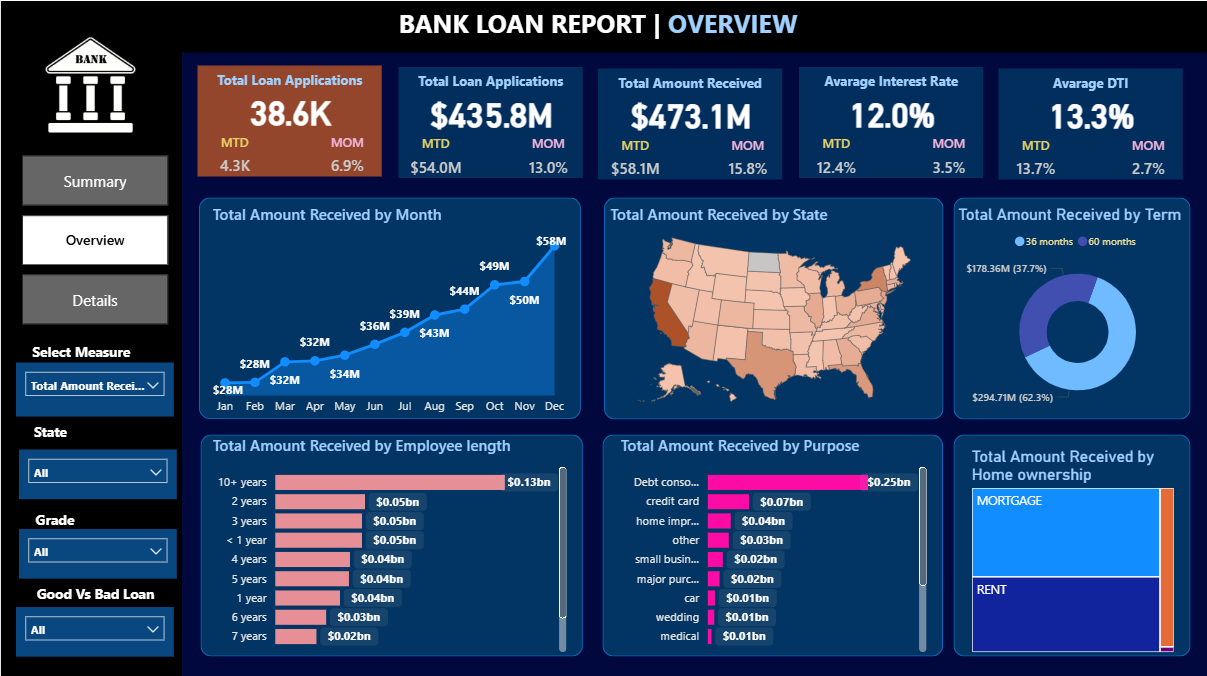

The dashboard page shown, as its layout file describes it:
{"tool":"powerbi","page":{"name":"Overview","canvas":[1280,720],"ordinal":1},"visuals":[{"type":"shape","box":[208.4,68.4,195.6,117.7],"z":0,"group":"g1"},{"type":"shape","box":[421.5,70.3,195.6,117.7],"z":0,"group":"g2"},{"type":"shape","box":[846,70.3,195.6,117.7],"z":0,"group":"g4"},{"type":"shape","box":[633.7,71.7,195.6,117.7],"z":0,"group":"g3"},{"type":"shape","box":[1058.3,72.1,195.6,117.7],"z":0,"group":"g5"},{"type":"shape","box":[210,208.4,405,235],"z":0},{"type":"shape","box":[0,0,1279.4,54.8],"z":1000},{"type":"card","fields":{"Values":["Bank loan data.Total Loan Applications"]},"box":[207.9,56.7,196.5,117.2],"z":1000,"group":"g1"},{"type":"card","fields":{"Values":["Bank loan data.Total Funded Amount"]},"box":[421,58.6,196.5,117.2],"z":1000,"group":"g2"},{"type":"card","fields":{"Values":["Bank loan data.Avg Interest Rate"]},"box":[845.5,58.6,196.5,117.2],"z":1000,"group":"g4"},{"type":"card","fields":{"Values":["Bank loan data.Total Amount Received"]},"box":[633.2,60,196.5,117.2],"z":1000,"group":"g3"},{"type":"card","fields":{"Values":["Bank loan data.Avg DTI"]},"box":[1057.8,60.4,196.5,117.2],"z":1000,"group":"g5"},{"type":"shape","box":[0,54.8,192,665.2],"z":2000},{"type":"textbox","box":[208.4,68.4,195.6,36.6],"z":2000,"group":"g1"},{"type":"textbox","box":[421.5,70.3,195.6,36.6],"z":2000,"group":"g2"},{"type":"textbox","box":[846,70.3,195.6,36.6],"z":2000,"group":"g4"},{"type":"textbox","box":[633.7,71.7,195.6,36.6],"z":2000,"group":"g3"},{"type":"textbox","box":[1058.3,72.1,195.6,36.6],"z":2000,"group":"g5"},{"type":"textbox","box":[416.7,0,447,55.7],"z":3000},{"type":"card","title":"MTD","fields":{"Values":["Bank loan data.MTD Loan Applications"]},"box":[209.8,139.9,75.6,54.8],"z":3000,"group":"g1"},{"type":"card","title":"MTD","fields":{"Values":["Bank loan data.MTD Funded Amount"]},"box":[422.9,141.8,75.6,54.8],"z":3000,"group":"g2"},{"type":"card","title":"MTD","fields":{"Values":["Bank loan data.MTD Avg Interest RAte"]},"box":[847.4,141.8,75.6,54.8],"z":3000,"group":"g4"},{"type":"card","title":"MTD","fields":{"Values":["Bank loan data.MTD Total Amount Received"]},"box":[635.1,143.2,75.6,54.8],"z":3000,"group":"g3"},{"type":"card","title":"MTD","fields":{"Values":["Bank loan data.MTD Avg DTI"]},"box":[1059.7,143.6,75.6,54.8],"z":3000,"group":"g5"},{"type":"group","id":"g1","title":"Group 1","box":[207.9,56.7,196.5,138],"z":4000},{"type":"card","title":"MOM","fields":{"Values":["Bank loan data.MOM Loan Applications"]},"box":[328.8,139.9,75.6,54.8],"z":4000,"group":"g1"},{"type":"card","title":"MOM","fields":{"Values":["Bank loan data.MOM Total Funded Amount"]},"box":[541.9,141.8,75.6,54.8],"z":4000,"group":"g2"},{"type":"card","title":"MOM","fields":{"Values":["Bank loan data.MOM Avg INterest Rate"]},"box":[966.4,141.8,75.6,54.8],"z":4000,"group":"g4"},{"type":"card","title":"MOM","fields":{"Values":["Bank loan data.MOM Total Amount Received"]},"box":[754.1,143.2,75.6,54.8],"z":4000,"group":"g3"},{"type":"card","title":"MOM","fields":{"Values":["Bank loan data.MOM Avg DTI"]},"box":[1178.7,143.6,75.6,54.8],"z":4000,"group":"g5"},{"type":"group","id":"g2","title":"Group 1","box":[421,58.6,195.7,137.1],"z":5000},{"type":"group","id":"g3","title":"Group 1","box":[633.2,60,195.7,137.1],"z":6000},{"type":"group","id":"g4","title":"Group 1","box":[845.5,58.6,195.7,137.1],"z":7000},{"type":"group","id":"g5","title":"Group 1","box":[1057.8,60.4,195.6,136.8],"z":8000},{"type":"slicer","fields":{"Values":["Bank loan data.address_state"]},"box":[19.6,475.1,167,52.5],"z":9000},{"type":"textbox","box":[5.3,440.1,95.4,44.5],"z":10000},{"type":"slicer","fields":{"Values":["Bank loan data.grade"]},"box":[19.6,560.7,167,52.5],"z":11000},{"type":"textbox","box":[14.8,534.1,85.9,38.2],"z":12000},{"type":"slicer","fields":{"Values":["Bank loan data.Good vs Bad Loan"]},"box":[15.9,642.6,167,52.5],"z":13000},{"type":"textbox","box":[19.1,612.4,162.2,39.8],"z":14000},{"type":"areaChart","fields":{"Y":["Bank loan data.Total Amount Received"],"Category":["Date Table.Month"]},"box":[219.5,214.7,384.9,232.2],"z":15000},{"type":"slicer","fields":{"Values":["Select Measure.Select Measure"]},"box":[15.9,382.9,167,57.3],"z":16000},{"type":"textbox","box":[19.1,355.9,132,36.6],"z":17000},{"type":"shape","box":[639.4,208.4,360,235.4],"z":18000},{"type":"shapeMap","fields":{"Value":["Bank loan data.Total Amount Received"],"Category":["Bank loan data.address_state"]},"box":[641,214.7,357.9,224.3],"z":19000},{"type":"shape","box":[1010,208.4,251.3,235.4],"z":20000},{"type":"donutChart","fields":{"Y":["Bank loan data.Total Amount Received"],"Category":["Bank loan data.term"]},"box":[1010,216.3,262.5,222.7],"z":21000},{"type":"shape","box":[211.6,459.7,405.6,235.4],"z":22000},{"type":"barChart","fields":{"Y":["Bank loan data.Total Amount Received"],"Category":["Bank loan data.emp_length"]},"box":[219.5,459.7,384.9,235.4],"z":23000},{"type":"shape","box":[637.8,459.7,361.1,235.4],"z":24000},{"type":"barChart","fields":{"Y":["Bank loan data.Total Amount Received"],"Category":["Bank loan data.purpose"]},"box":[652.2,459.7,334,235.4],"z":25000},{"type":"shape","box":[1010,459.7,251.3,235.4],"z":26000},{"type":"treemap","fields":{"Values":["Bank loan data.Total Amount Received"],"Group":["Bank loan data.home_ownership"]},"box":[1024.4,472.4,224.3,222.7],"z":27000},{"type":"image","box":[22.3,14.3,144.7,149.5],"z":28000},{"type":"pageNavigator","box":[22.3,163.8,155.9,181.3],"z":28001}]}

Visuals, with their boxes in screenshot pixels (x1, y1, x2, y2), scaled from the page's 1280x720 canvas onto the 1207x676 screenshot:
shape: (197,64,381,175)
shape: (397,66,582,177)
shape: (798,66,982,177)
shape: (598,67,782,178)
shape: (998,68,1182,178)
shape: (198,196,580,416)
shape: (0,0,1206,51)
card - Bank loan data.Total Loan Applications: (196,53,381,163)
card - Bank loan data.Total Funded Amount: (397,55,582,165)
card - Bank loan data.Avg Interest Rate: (797,55,983,165)
card - Bank loan data.Total Amount Received: (597,56,782,166)
card - Bank loan data.Avg DTI: (997,57,1183,167)
shape: (0,51,181,675)
textbox: (197,64,381,99)
textbox: (397,66,582,100)
textbox: (798,66,982,100)
textbox: (598,67,782,102)
textbox: (998,68,1182,102)
textbox: (393,0,814,52)
"MTD" card: (198,131,269,183)
"MTD" card: (399,133,470,185)
"MTD" card: (799,133,870,185)
"MTD" card: (599,134,670,186)
"MTD" card: (999,135,1071,186)
"Group 1" group: (196,53,381,183)
"MOM" card: (310,131,381,183)
"MOM" card: (511,133,582,185)
"MOM" card: (911,133,983,185)
"MOM" card: (711,134,782,186)
"MOM" card: (1111,135,1183,186)
"Group 1" group: (397,55,582,184)
"Group 1" group: (597,56,782,185)
"Group 1" group: (797,55,982,184)
"Group 1" group: (997,57,1182,185)
slicer - Bank loan data.address_state: (18,446,176,495)
textbox: (5,413,95,455)
slicer - Bank loan data.grade: (18,526,176,576)
textbox: (14,501,95,537)
slicer - Bank loan data.Good vs Bad Loan: (15,603,172,653)
textbox: (18,575,171,612)
areaChart - Bank loan data.Total Amount Received x Date Table.Month: (207,202,570,420)
slicer - Select Measure.Select Measure: (15,360,172,413)
textbox: (18,334,142,369)
shape: (603,196,942,417)
shapeMap - Bank loan data.Total Amount Received x Bank loan data.address_state: (604,202,942,412)
shape: (952,196,1189,417)
donutChart - Bank loan data.Total Amount Received x Bank loan data.term: (952,203,1200,412)
shape: (200,432,582,653)
barChart - Bank loan data.Total Amount Received x Bank loan data.emp_length: (207,432,570,653)
shape: (601,432,942,653)
barChart - Bank loan data.Total Amount Received x Bank loan data.purpose: (615,432,930,653)
shape: (952,432,1189,653)
treemap - Bank loan data.Total Amount Received x Bank loan data.home_ownership: (966,444,1177,653)
image: (21,13,157,154)
pageNavigator: (21,154,168,324)
